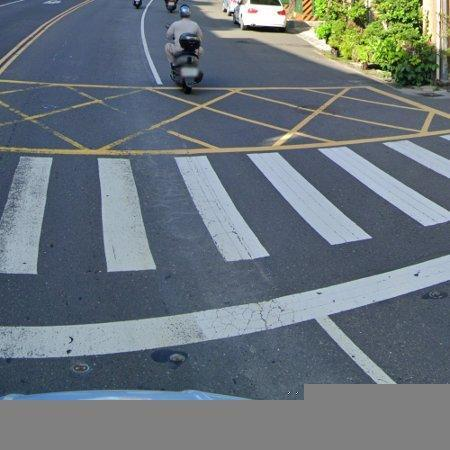crosswalks: (0, 131, 450, 276)
